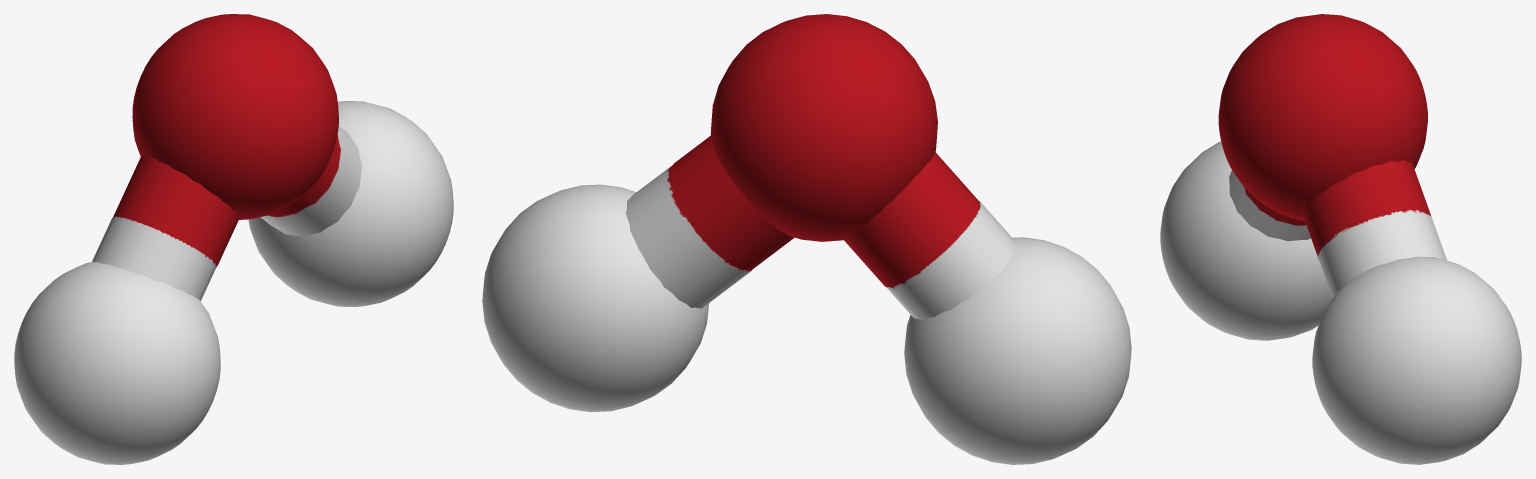
3 renders of one model, left to right at view 1: azimuth 30°, elevation 25°; view 2: azimuth 150°, elevation 25°; view 3: azimuth 270°, elevation 25°, orthographic. The views are drawn at different scales.
Visible parts, largest first — view 1: node_id21, node_id18, node_id24, node_id28, node_id7, node_id11, node_id15; view 2: node_id18, node_id21, node_id24, node_id28, node_id15, node_id11, node_id7; view 3: node_id24, node_id18, node_id21, node_id11, node_id15, node_id7, node_id28.
Part boxes in pixels (x1,y1,x2,y2): node_id21: (14,261,220,464); node_id18: (132,14,338,219); node_id24: (248,101,453,306); node_id28: (113,155,238,266); node_id7: (92,216,216,300); node_id11: (260,126,362,236); node_id15: (268,135,340,216); node_id18: (710,14,937,241); node_id21: (904,237,1131,464); node_id24: (482,184,709,412); node_id28: (844,152,979,287); node_id15: (669,135,794,270); node_id11: (625,166,752,308); node_id7: (886,201,1016,320); node_id24: (1312,256,1521,464); node_id18: (1218,14,1427,221); node_id21: (1160,141,1332,340); node_id11: (1317,209,1446,298); node_id15: (1303,160,1430,258); node_id7: (1229,170,1310,241); node_id28: (1244,187,1306,225).
Bounding box in the file's own units: 0.408 × 0.3001 × 0.259.
7 materials, 7 textured.
